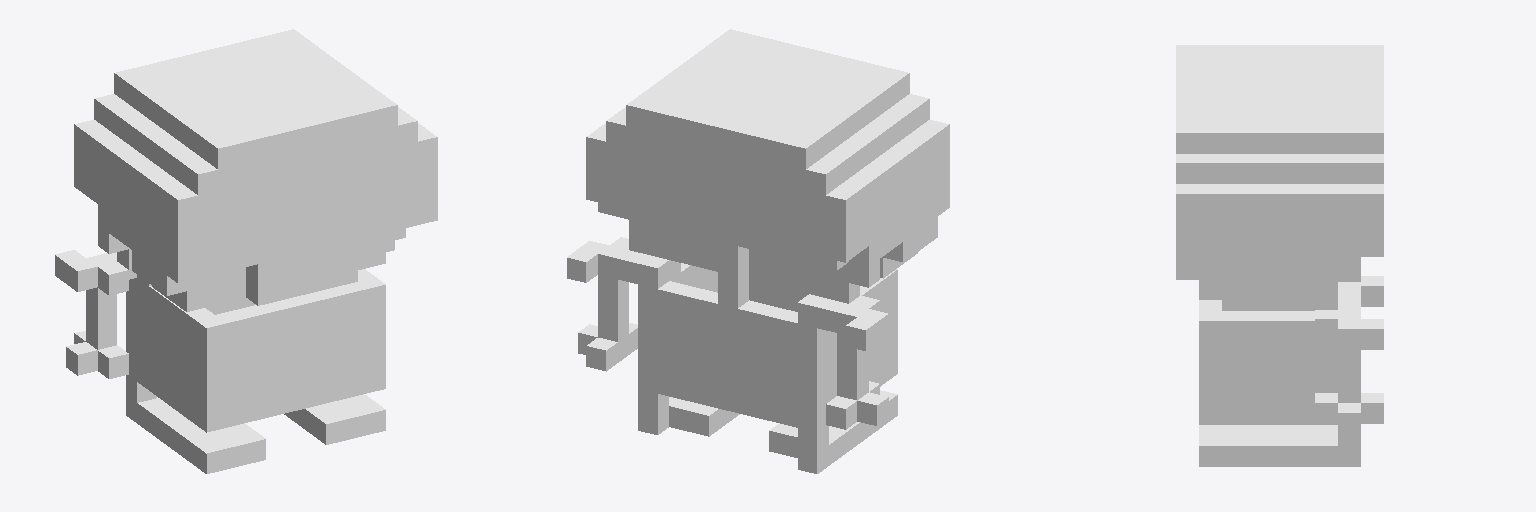
Rendered from Skeleton.vox.obj.
3 renders of one model, left to right at view 1: azimuth 30°, elevation 25°; view 2: azimuth 150°, elevation 25°; view 3: azimuth 270°, elevation 25°, orthographic.
Visible parts, largest first — view 1: object 1; view 2: object 1; view 3: object 1.
Boxes of the visible parts, box(x1,y1,x2,y2) form: object 1: box(55, 29, 437, 473); object 1: box(567, 29, 949, 473); object 1: box(1176, 45, 1383, 466).
Bounding box in the file's own units: 1.5 × 1.6 × 0.9.